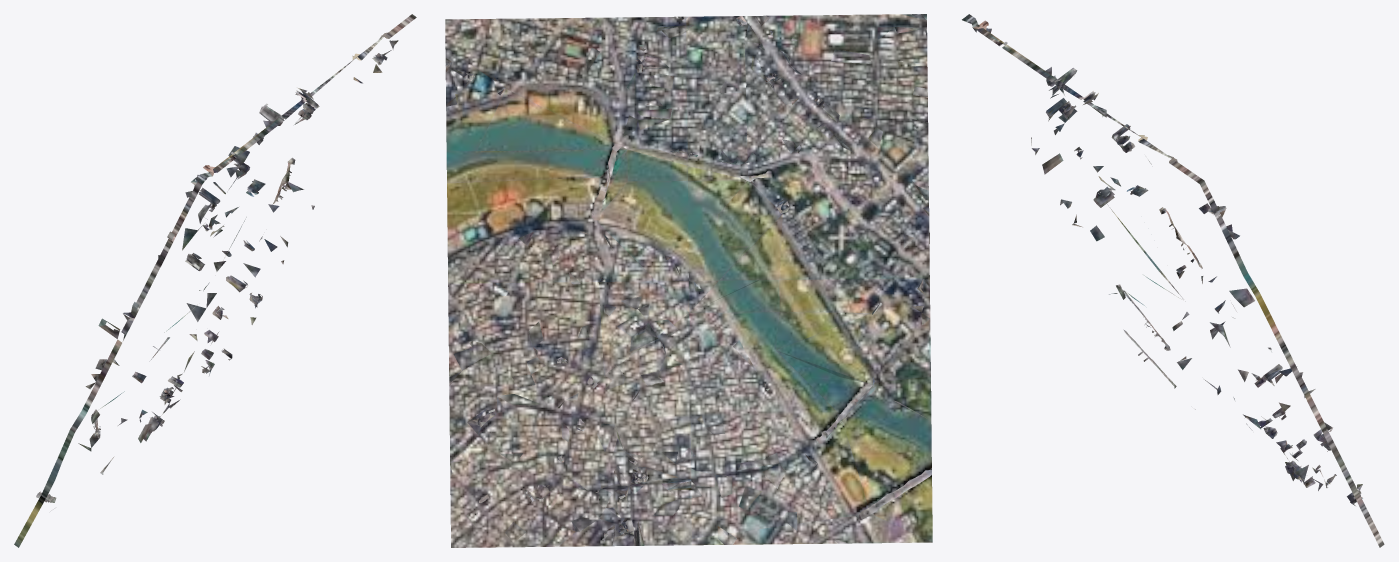
3 renders of one model, left to right at view 1: azimuth 30°, elevation 25°; view 2: azimuth 150°, elevation 25°; view 3: azimuth 270°, elevation 25°, orthographic. The views are drawn at different scales.
Bounding box in the file's own units: 2445 × 2262 × 2062.
1 material, 1 textured.
